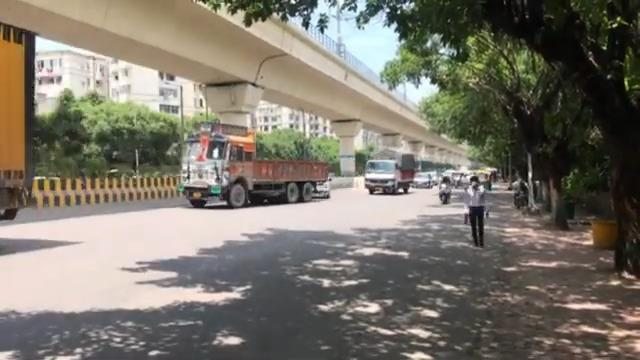Bike: (513, 172, 529, 209), (438, 174, 453, 206)
Truck: (178, 128, 331, 208), (363, 149, 415, 194)
